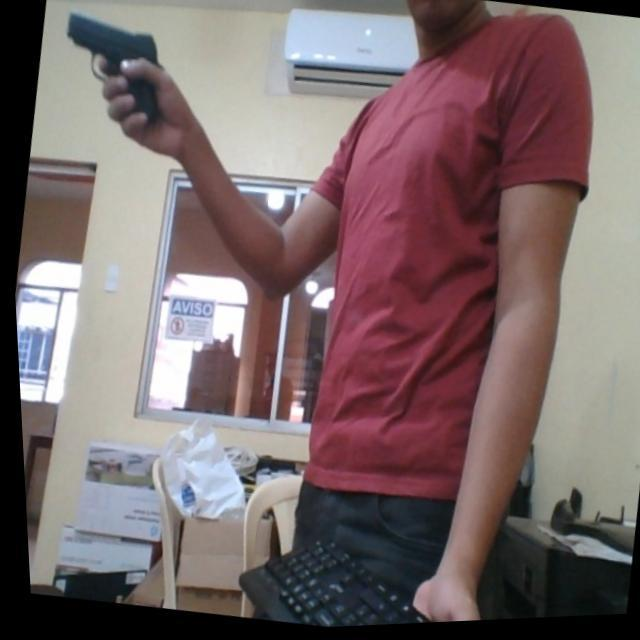weapon: (52, 5, 173, 130)
